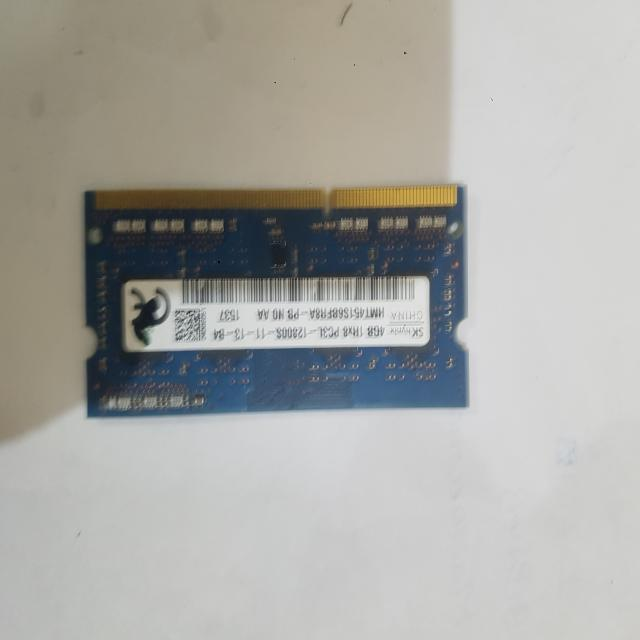electronic: (83, 183, 470, 417)
